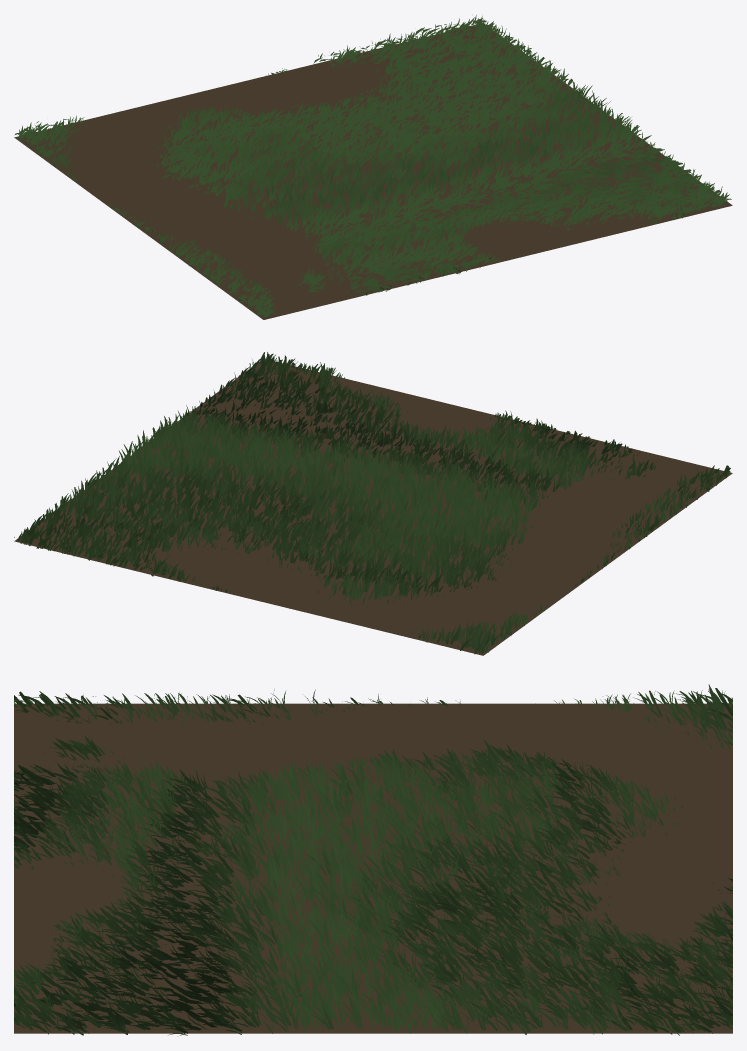
File: ground_p6.glb
3 renders of one model, top to bottom at view 1: azimuth 30°, elevation 25°; view 2: azimuth 150°, elevation 25°; view 3: azimuth 270°, elevation 25°, orthographic. The views are drawn at different scales.
Visible parts, largest first — view 1: Ground_P6; view 2: Ground_P6; view 3: Ground_P6.
Boxes of the visible parts, bbox=[...] form: Ground_P6: bbox=[14, 15, 732, 319]; Ground_P6: bbox=[14, 352, 732, 655]; Ground_P6: bbox=[14, 684, 732, 1035].
Bounding box in the file's own units: 19 × 0.9321 × 17.5.
